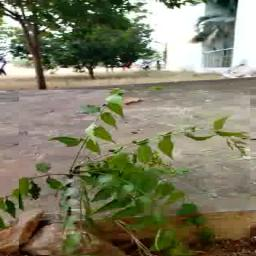Azadiractha Indica: (19, 90, 251, 256)
